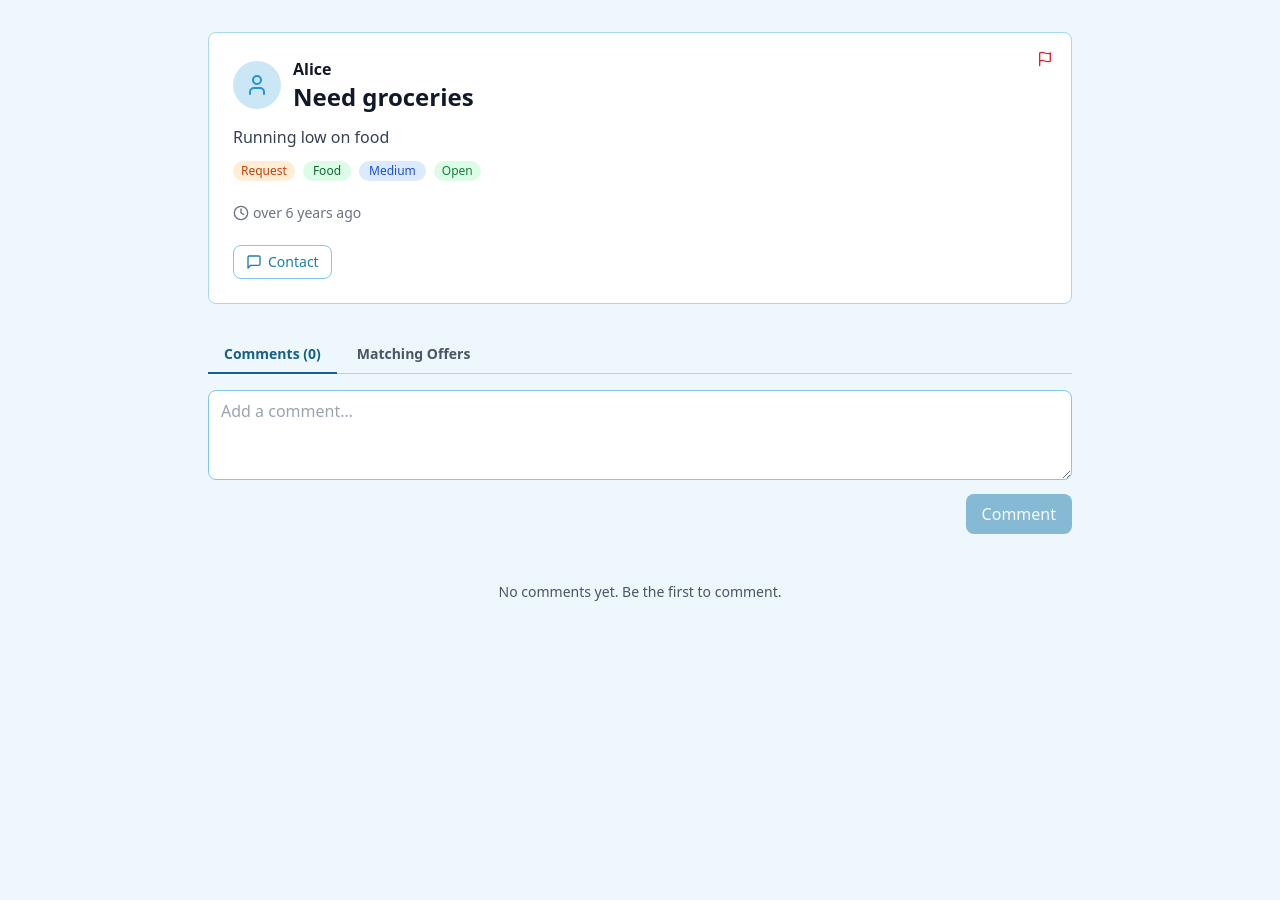
it: PostDetailPage — report flag › opens a confirmation dialog instead of submitting immediately
The image size is (1280, 900).
What coordinates should you click on to do the following:
click the button named "report post"
I would click on:
 (1045, 59)
Its box is [1031,45,1059,73].
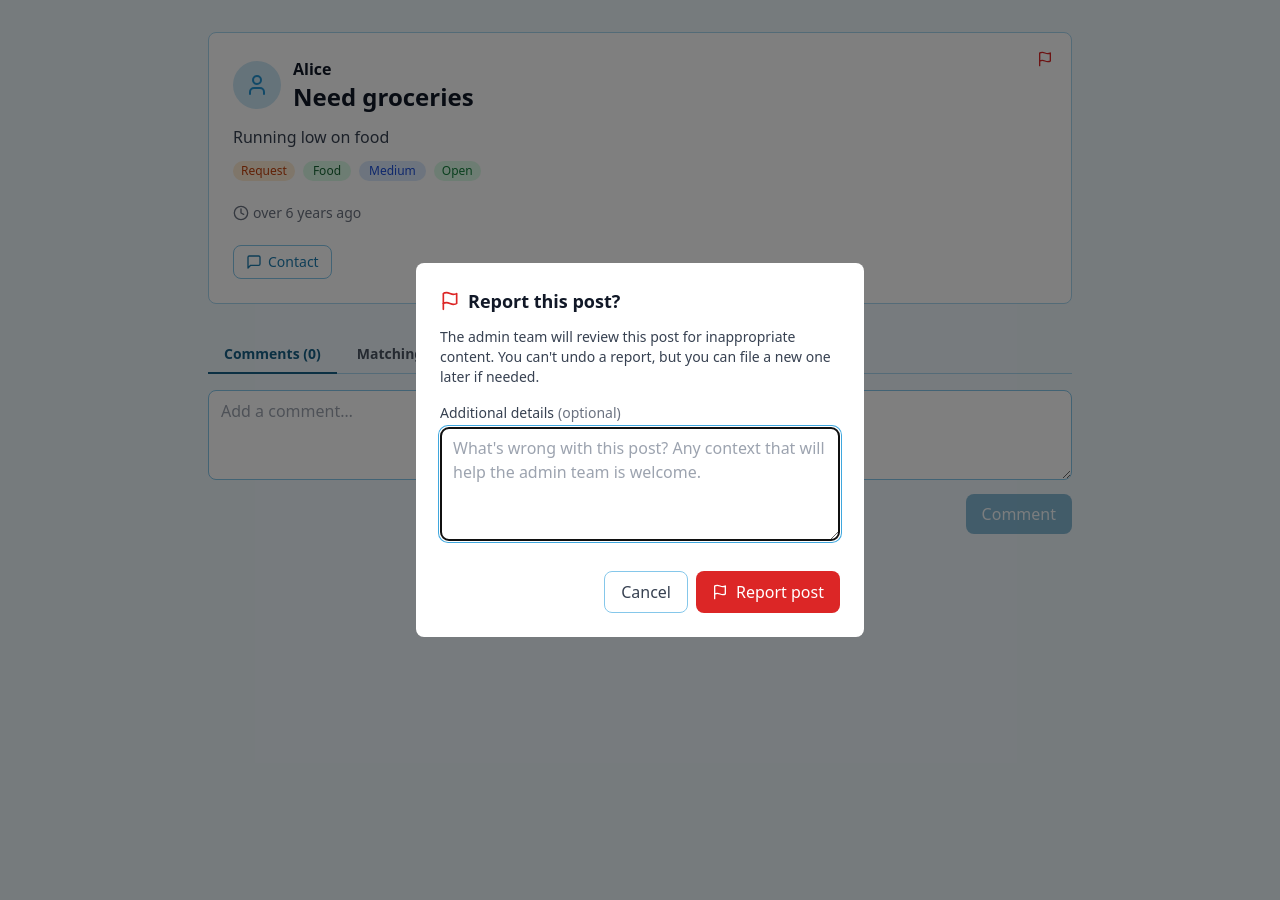
Result: the heading "Report this post?" is shown at [440,289,620,313]
